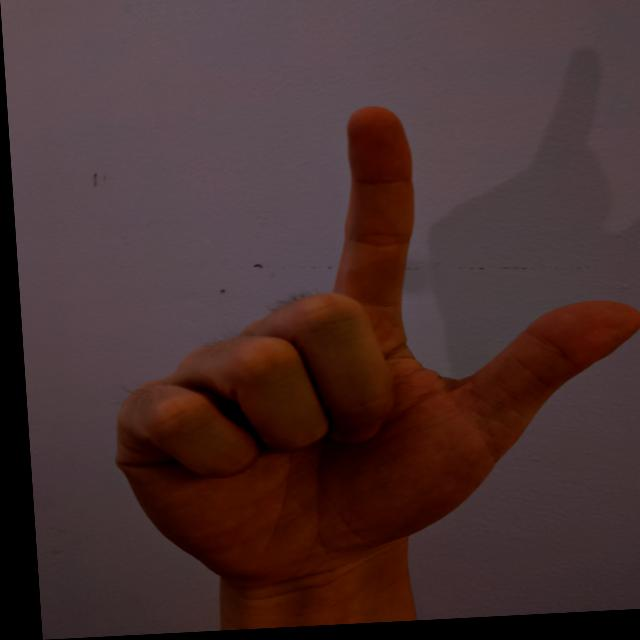L: (78, 88, 639, 597)
